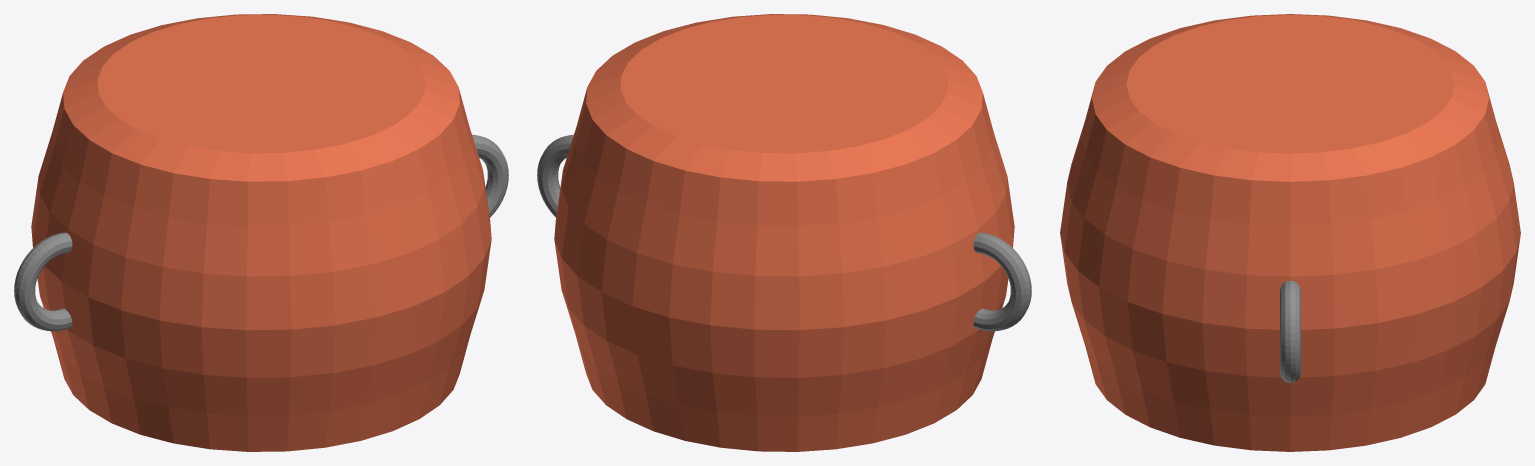
3 renders of one model, left to right at view 1: azimuth 30°, elevation 25°; view 2: azimuth 150°, elevation 25°; view 3: azimuth 270°, elevation 25°, orthographic.
Visible parts, largest first — view 1: Cylinder, Torus; view 2: Cylinder, Torus; view 3: Cylinder, Torus.
Boxes of the visible parts, <box> form: Cylinder: <box>31,14,491,451</box>; Torus: <box>14,134,508,331</box>; Cylinder: <box>554,14,1014,451</box>; Torus: <box>537,134,1031,331</box>; Cylinder: <box>1060,14,1520,451</box>; Torus: <box>1280,280,1300,382</box>.
Size of the model in its own units: 101 by 58.66 by 82.36.
